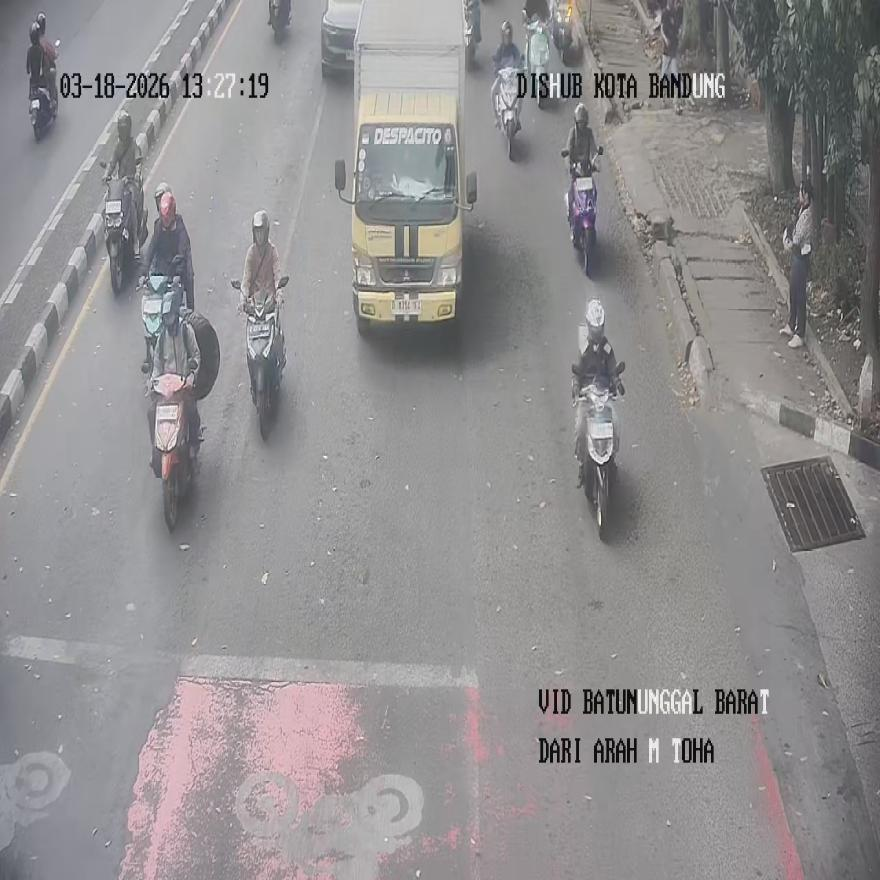Motor: (320, 0, 362, 77)
Truk: (572, 362, 624, 539), (147, 365, 201, 530), (233, 277, 286, 439), (102, 177, 143, 292), (567, 154, 598, 276), (28, 42, 60, 140), (493, 65, 520, 160), (525, 15, 551, 108), (552, 0, 580, 65), (465, 0, 481, 65), (268, 0, 291, 40)
